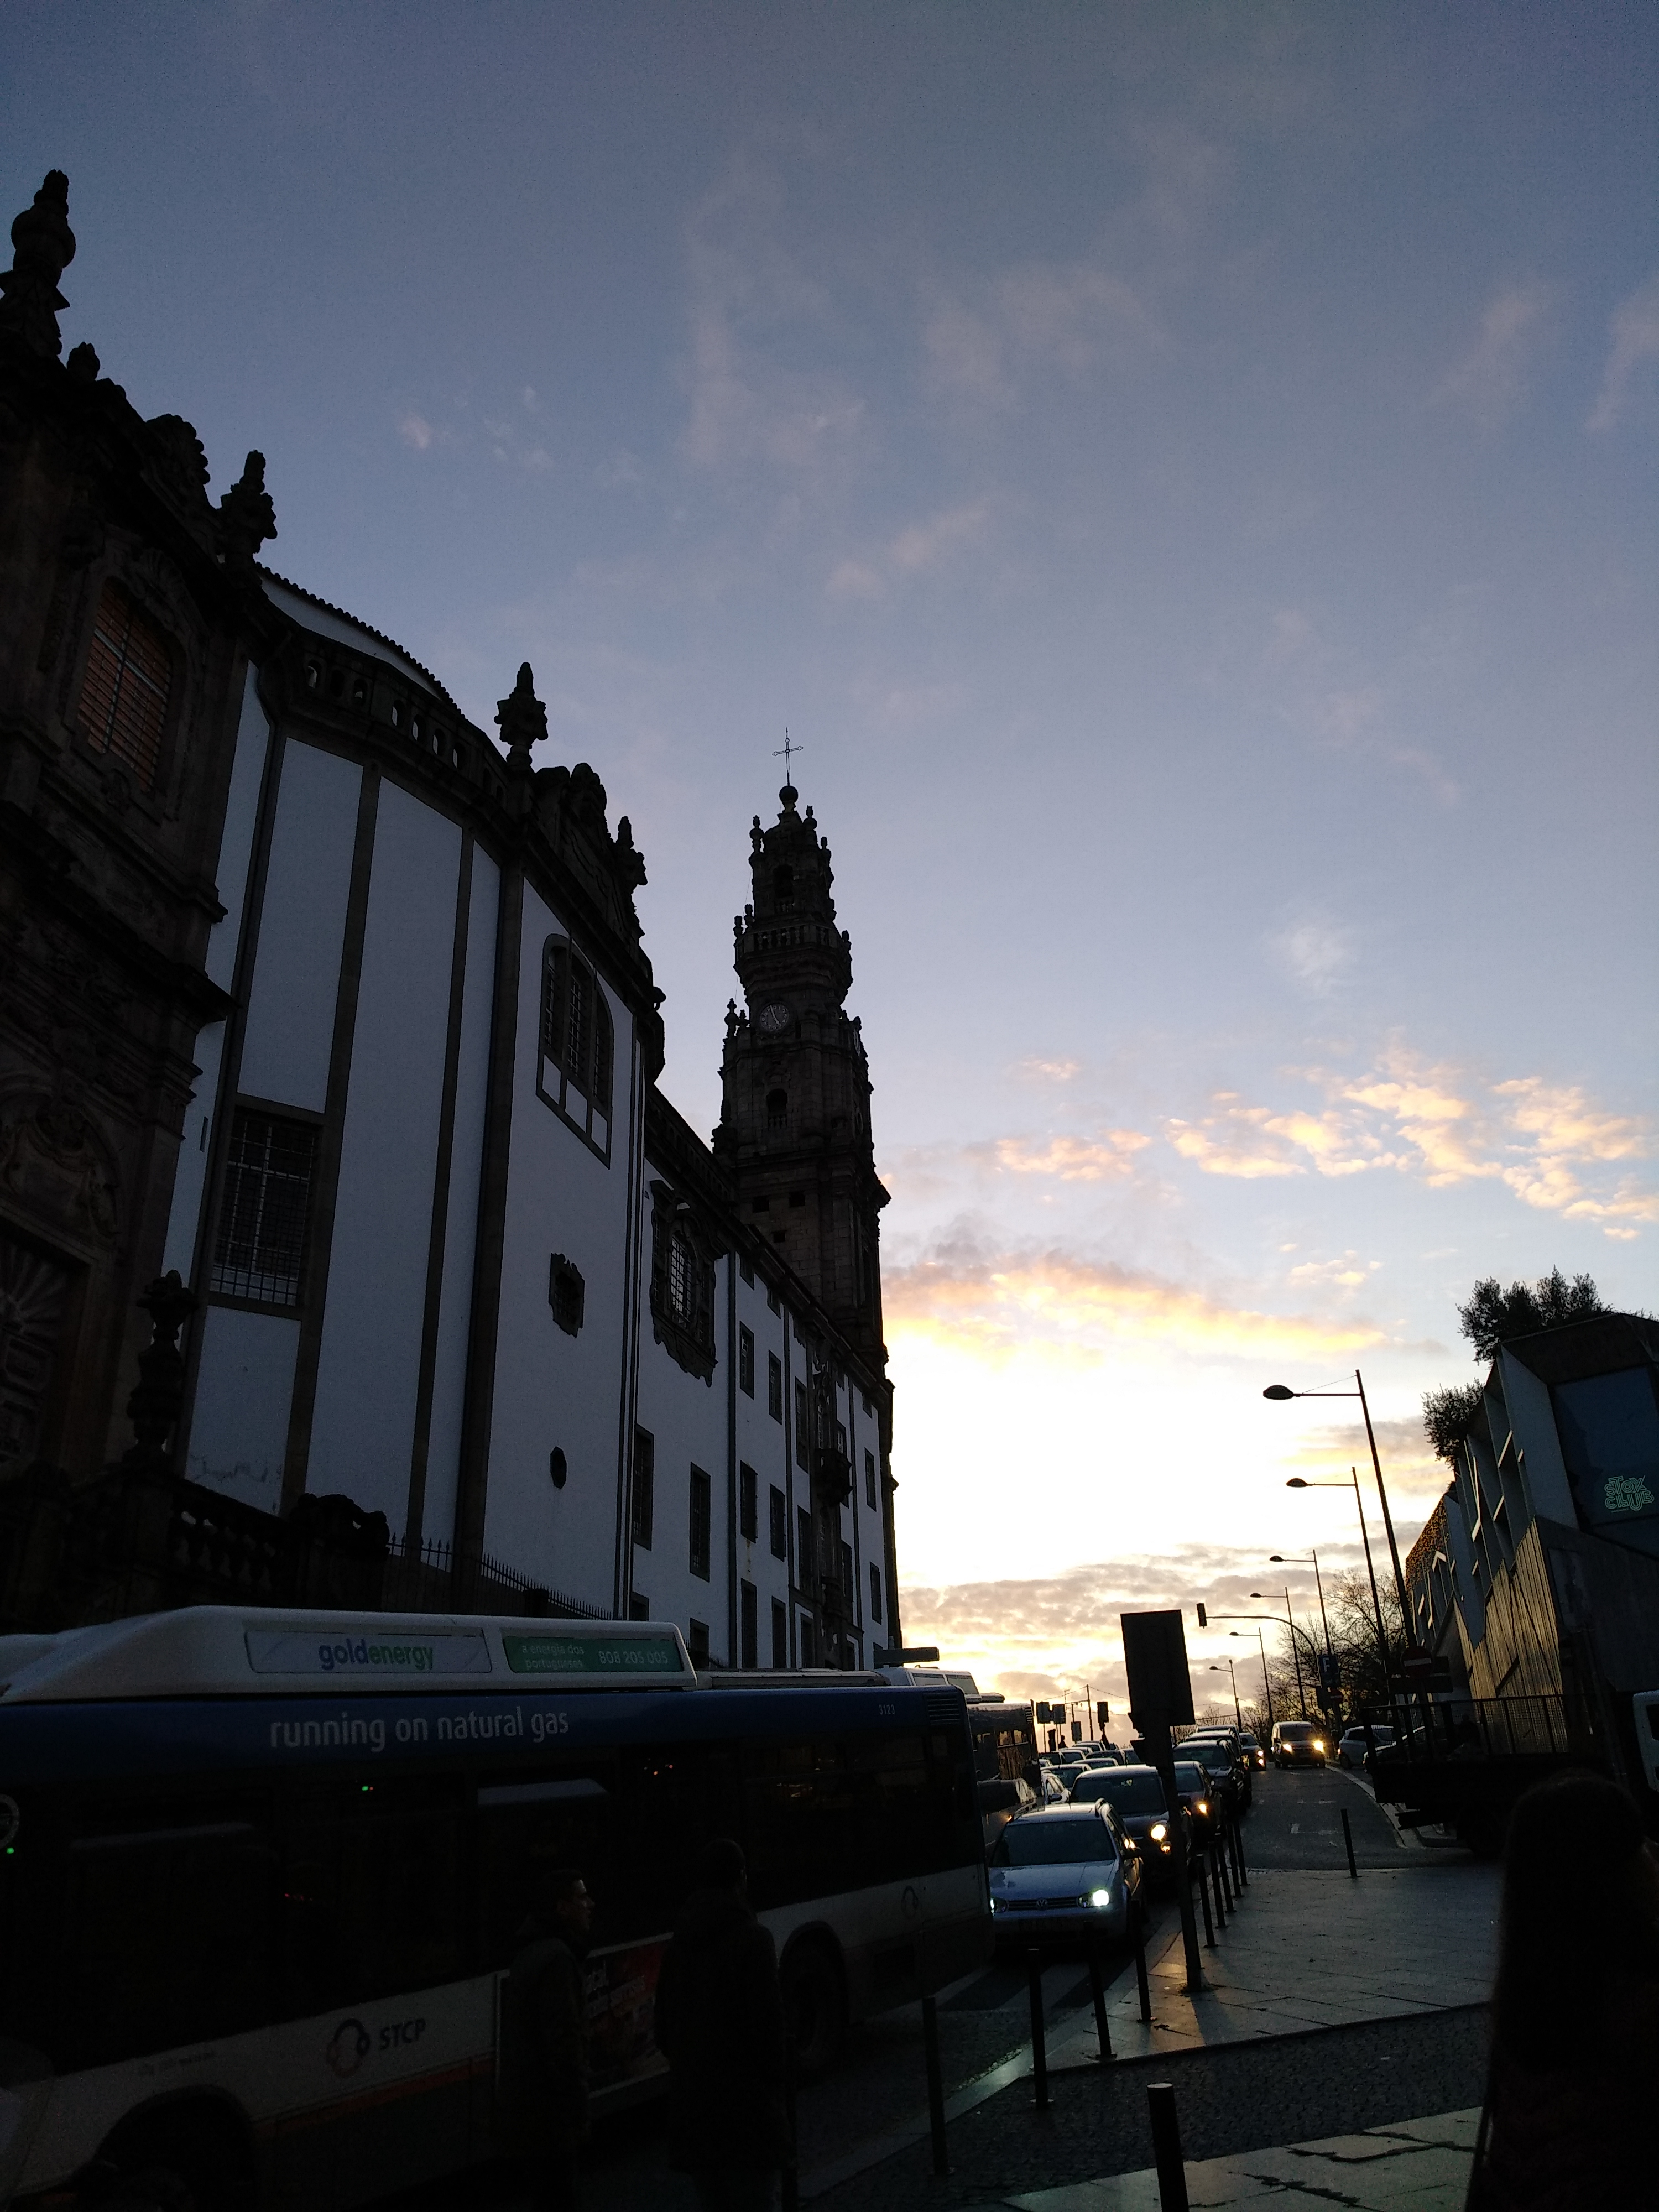clerigos: (685, 721, 896, 1332)
